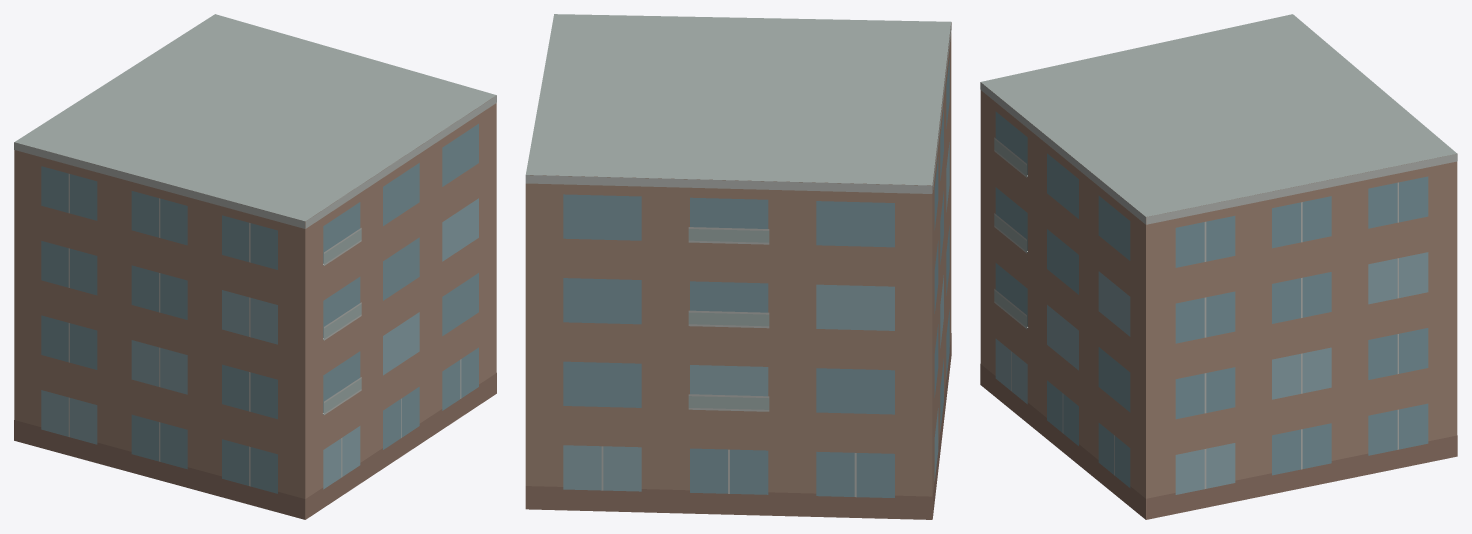
File: survey-upis-32749586.glb
3 views of the same model, side by side, from view 1: azimuth 30°, elevation 25°; view 2: azimuth 150°, elevation 25°; view 3: azimuth 270°, elevation 25° (orthographic). The views are drawn at different scales.
Visible parts, largest first — view 1: survey-upis-32749586.tmp; view 2: survey-upis-32749586.tmp; view 3: survey-upis-32749586.tmp.
Boxes of the visible parts, x1,y1,x2,y2 form: survey-upis-32749586.tmp: [14, 14, 496, 519]; survey-upis-32749586.tmp: [525, 14, 951, 519]; survey-upis-32749586.tmp: [980, 14, 1457, 519].
Bounding box in the file's own units: 13.67 × 9.5 × 13.57.
